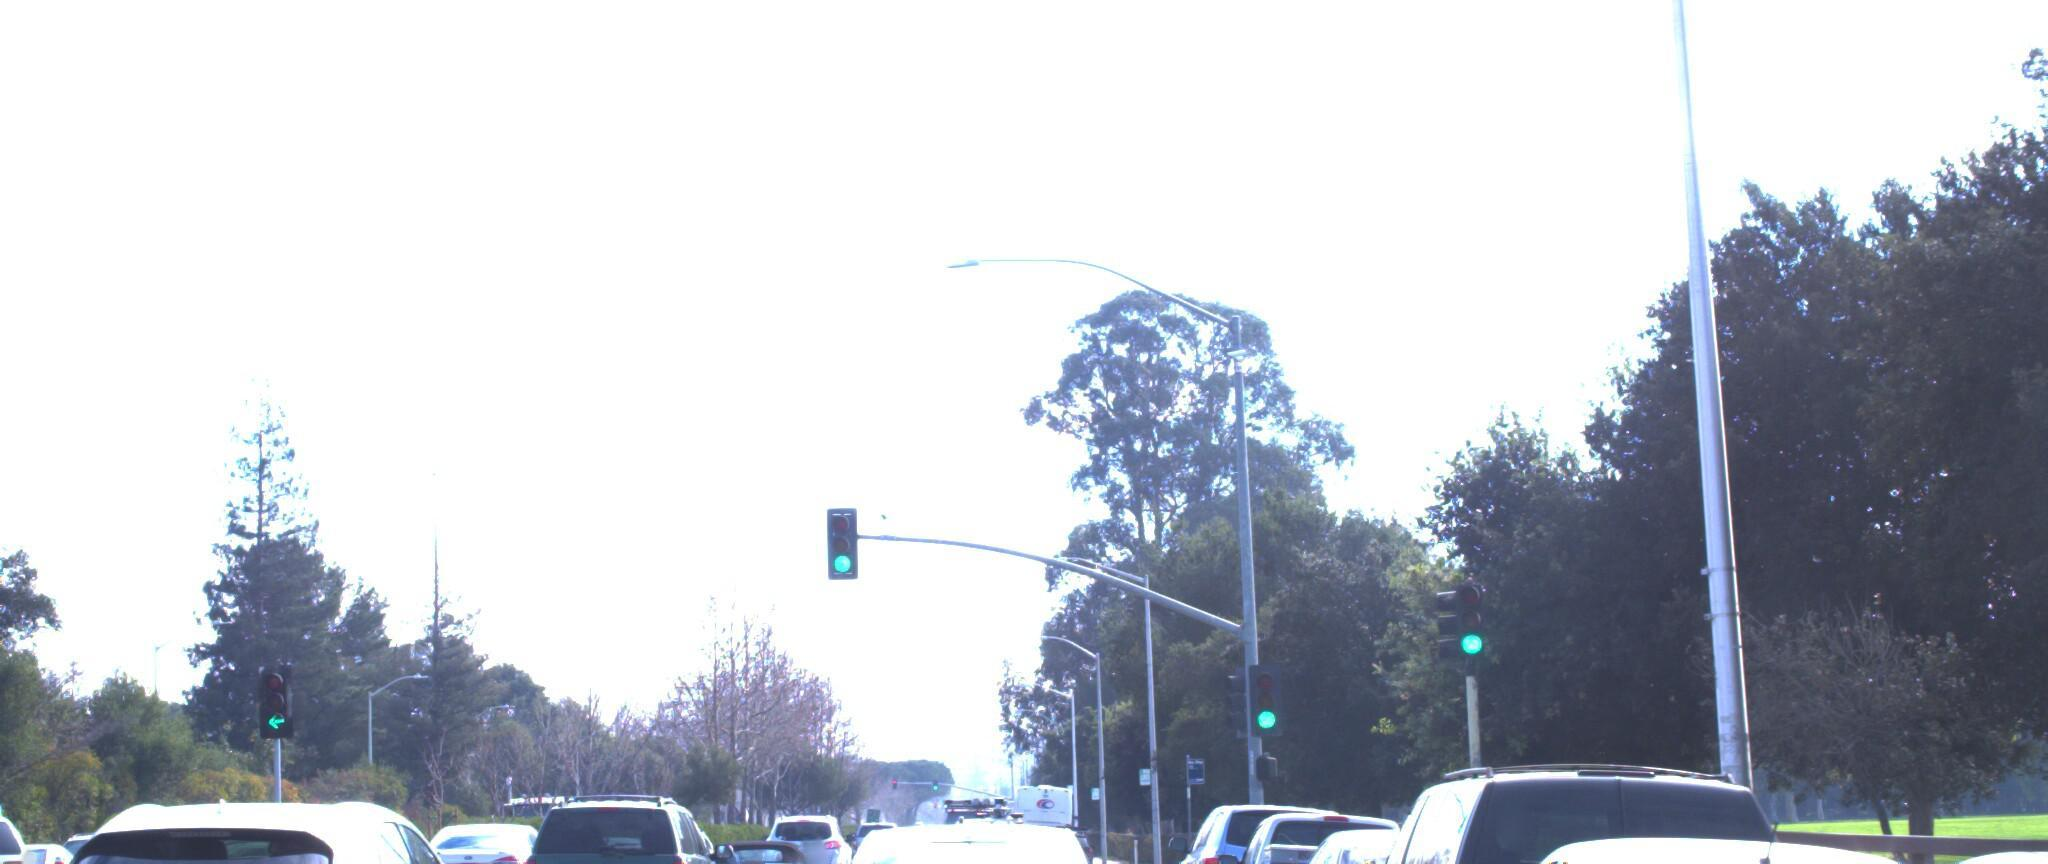car: (1306, 756, 1844, 864), (0, 787, 516, 864), (1379, 817, 2048, 864), (792, 817, 1143, 864), (508, 794, 728, 864), (1202, 805, 1462, 864), (1245, 820, 1566, 864), (1162, 797, 1364, 864), (901, 790, 1059, 864), (387, 816, 556, 864), (665, 826, 818, 864), (743, 810, 845, 864), (0, 837, 101, 864), (0, 808, 35, 864), (0, 818, 25, 864)
